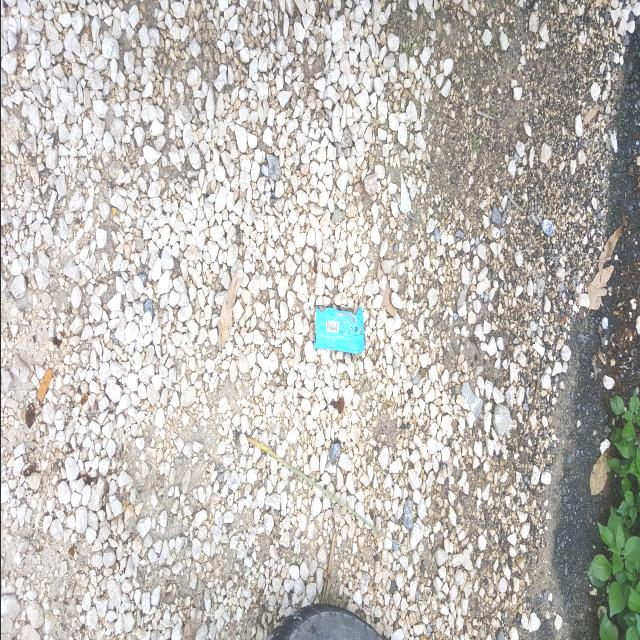Cigarette: (34, 368, 53, 403)
Other plastic: (313, 305, 365, 354)
